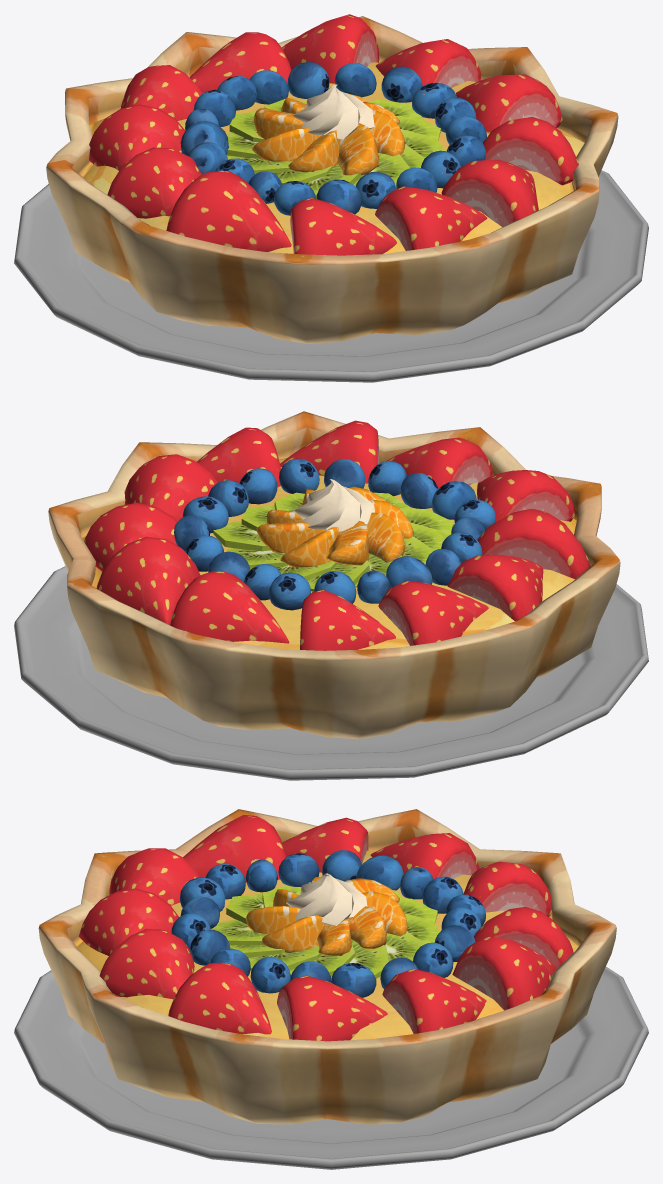
Rendered from ForSketchFab.fbx.
The picture shows the model from 3 angles, top to bottom: view 1: azimuth 30°, elevation 25°; view 2: azimuth 150°, elevation 25°; view 3: azimuth 270°, elevation 25°; orthographic projection.
Visible parts, largest first — view 1: Tart, pCylinder1, Strawb7, Strawb5, Strawb8, Strawb6, Strawb4, Strawb3, Strawb9, Strawb2, Strawb, Strawb11 (+35 smaller); view 2: Tart, pCylinder1, Strawb, Strawb11, Strawb7, Strawb9, Strawb8, Strawb10, Strawb2, Strawb6, Strawb1, Strawb5 (+34 smaller); view 3: Tart, pCylinder1, Strawb3, Strawb2, Strawb4, Strawb, Strawb1, Strawb5, Strawb7, Strawb10, Strawb6, Strawb9 (+37 smaller).
Part boxes in pixels (x1,y1,x2,y2): Tart: [46, 16, 618, 343]; pCylinder1: [14, 170, 648, 382]; Strawb7: [166, 171, 291, 251]; Strawb5: [375, 186, 487, 250]; Strawb8: [107, 147, 201, 218]; Strawb6: [290, 198, 396, 255]; Strawb4: [441, 159, 538, 226]; Strawb3: [483, 117, 578, 185]; Strawb9: [89, 104, 185, 170]; Strawb2: [456, 74, 562, 133]; Strawb: [282, 14, 379, 83]; Strawb11: [189, 32, 291, 92]; Tart: [48, 411, 620, 739]; pCylinder1: [14, 566, 648, 780]; Strawb: [96, 536, 200, 624]; Strawb11: [170, 571, 289, 643]; Strawb7: [477, 509, 590, 578]; Strawb9: [378, 580, 488, 645]; Strawb8: [447, 554, 543, 621]; Strawb10: [300, 589, 395, 650]; Strawb2: [124, 454, 217, 520]; Strawb6: [477, 470, 575, 522]; Strawb1: [84, 502, 177, 571]; Strawb5: [386, 437, 493, 488]; Tart: [38, 809, 616, 1124]; pCylinder1: [14, 967, 648, 1169]; Strawb3: [168, 962, 271, 1034]; Strawb2: [277, 975, 387, 1041]; Strawb4: [99, 928, 194, 999]; Strawb: [452, 936, 556, 1010]; Strawb1: [382, 968, 486, 1033]; Strawb5: [78, 888, 178, 955]; Strawb7: [183, 815, 286, 882]; Strawb10: [463, 861, 551, 916]; Strawb6: [109, 848, 199, 905]; Strawb9: [370, 833, 479, 879].
Size of the model in its own units: 11.41 by 3.85 by 11.41.
3 materials, 2 textured.
